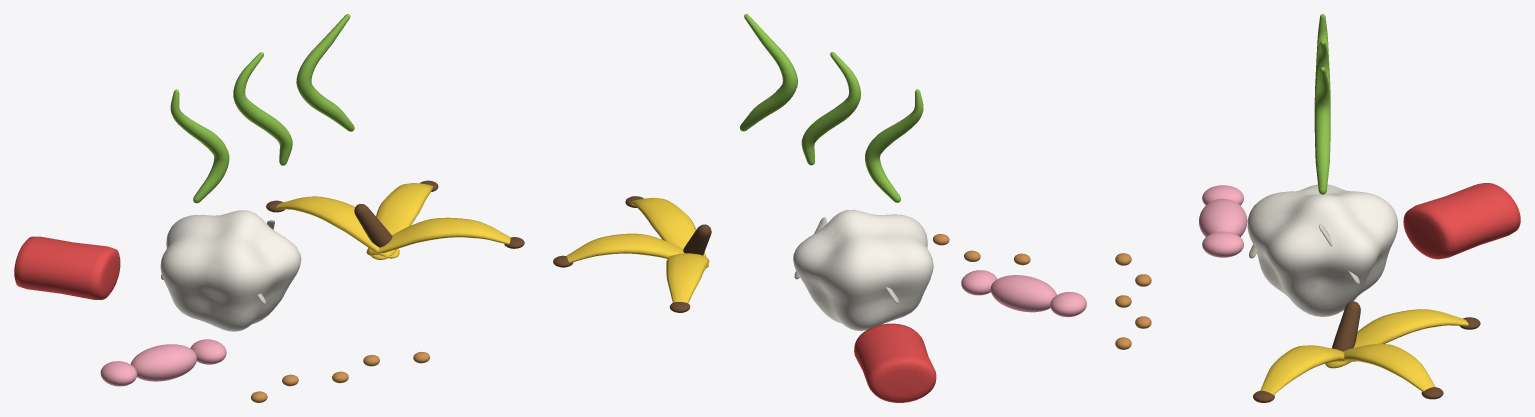
Rendered from basura.glb.
The picture shows the model from 3 angles, left to right: view 1: azimuth 30°, elevation 25°; view 2: azimuth 150°, elevation 25°; view 3: azimuth 270°, elevation 25°; orthographic projection. The views are drawn at different scales.
Visible parts, largest first — view 1: papel arrugado, lata aplastada, gajo cáscara 0, gajo cáscara 2, gajo cáscara 1, envoltura, mal olor 2, mal olor 0, mal olor 1, tallo cáscara, punta envoltura, punta envoltura.001; view 2: papel arrugado, lata aplastada, gajo cáscara 1, envoltura, mal olor 2, gajo cáscara 0, mal olor 0, mal olor 1, gajo cáscara 2, punta envoltura, punta envoltura.001, tallo cáscara; view 3: papel arrugado, lata aplastada, gajo cáscara 2, gajo cáscara 1, gajo cáscara 0, mal olor 2, envoltura, tallo cáscara, punta envoltura.001, punta envoltura, mal olor 1, mal olor 0.
Part boxes in pixels (x1,y1,x2,y2): papel arrugado: [160, 210, 301, 331]; lata aplastada: [14, 236, 120, 299]; gajo cáscara 0: [366, 217, 510, 255]; gajo cáscara 2: [276, 196, 399, 258]; gajo cáscara 1: [368, 183, 433, 259]; envoltura: [130, 344, 196, 381]; mal olor 2: [296, 14, 354, 131]; mal olor 0: [170, 89, 229, 203]; mal olor 1: [233, 52, 292, 165]; tallo cáscara: [354, 204, 392, 247]; punta envoltura: [100, 361, 137, 386]; punta envoltura.001: [190, 339, 226, 364]; papel arrugado: [793, 209, 933, 330]; lata aplastada: [854, 323, 936, 402]; gajo cáscara 1: [566, 233, 708, 267]; envoltura: [990, 275, 1056, 312]; mal olor 2: [740, 14, 797, 131]; gajo cáscara 0: [631, 197, 706, 269]; mal olor 0: [865, 89, 923, 202]; mal olor 1: [801, 52, 860, 165]; gajo cáscara 2: [666, 253, 709, 303]; punta envoltura: [1050, 292, 1086, 317]; punta envoltura.001: [961, 270, 997, 295]; tallo cáscara: [683, 224, 711, 255]; papel arrugado: [1247, 184, 1397, 316]; lata aplastada: [1403, 183, 1520, 259]; gajo cáscara 2: [1325, 309, 1468, 368]; gajo cáscara 1: [1332, 344, 1434, 391]; gajo cáscara 0: [1260, 345, 1356, 394]; mal olor 2: [1314, 67, 1330, 194]; envoltura: [1199, 198, 1247, 236]; tallo cáscara: [1332, 301, 1360, 351]; punta envoltura.001: [1202, 231, 1243, 257]; punta envoltura: [1202, 185, 1243, 205]; mal olor 1: [1314, 40, 1330, 106]; mal olor 0: [1314, 14, 1330, 99].
Bounding box in the file's own units: 0.5408 × 0.3319 × 0.4071.
